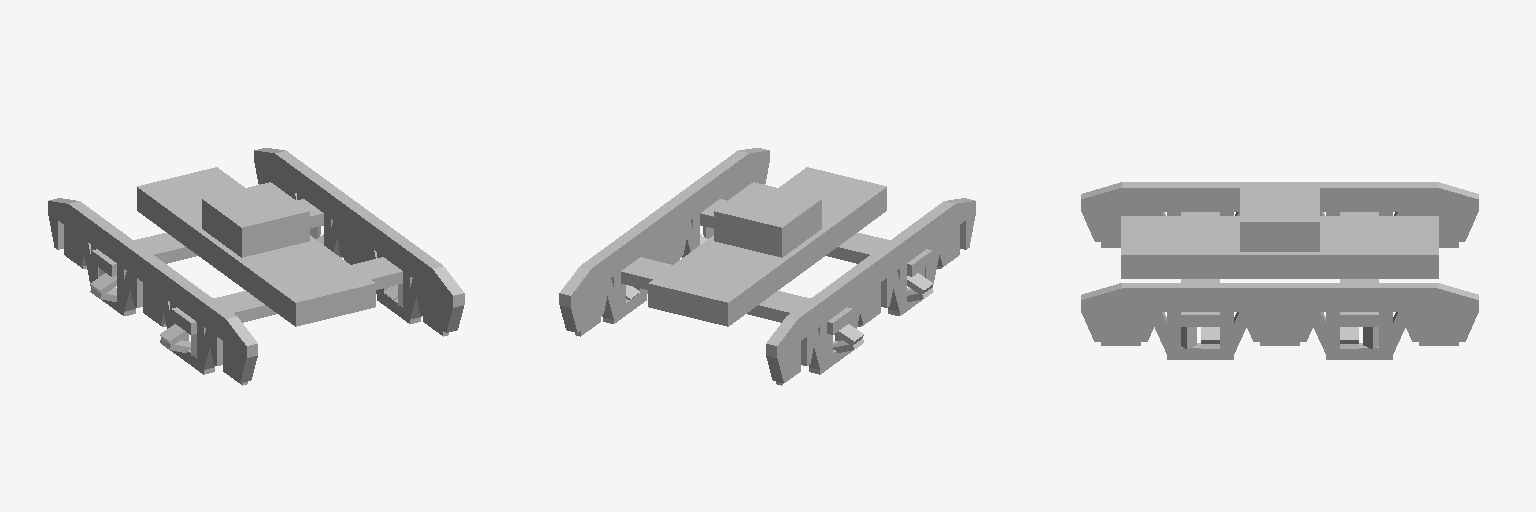
Rendered from heavyweight_frame.obj.
3 renders of one model, left to right at view 1: azimuth 30°, elevation 25°; view 2: azimuth 150°, elevation 25°; view 3: azimuth 270°, elevation 25°, orthographic.
Visible parts, largest first — view 1: cube2, cube8, cube54, cube1, cube30, cube29, cube16, cube13; view 2: cube2, cube8, cube54, cube1, cube29, cube30, cube3, cube13; view 3: cube2, cube8, cube54, cube1, cube3, cube13, cube16, cube29, cube30, cube31, cube50, cube7 (+5 smaller).
Boxes of the visible parts, x1=… form: cube2: x1=137, y1=167, x2=375, y2=326; cube8: x1=254, y1=148, x2=464, y2=307; cube54: x1=48, y1=198, x2=257, y2=357; cube1: x1=202, y1=182, x2=309, y2=257; cube30: x1=171, y1=257, x2=402, y2=334; cube29: x1=92, y1=199, x2=323, y2=276; cube16: x1=423, y1=286, x2=448, y2=336; cube13: x1=344, y1=228, x2=363, y2=264; cube2: x1=648, y1=167, x2=886, y2=326; cube8: x1=559, y1=148, x2=769, y2=307; cube54: x1=766, y1=198, x2=975, y2=357; cube1: x1=714, y1=182, x2=821, y2=257; cube29: x1=621, y1=257, x2=852, y2=334; cube30: x1=700, y1=199, x2=931, y2=276; cube3: x1=575, y1=286, x2=600, y2=336; cube13: x1=660, y1=228, x2=679, y2=264; cube2: x1=1121, y1=216, x2=1438, y2=278; cube8: x1=1081, y1=283, x2=1478, y2=311; cube54: x1=1081, y1=182, x2=1478, y2=211; cube1: x1=1240, y1=188, x2=1319, y2=251; cube3: x1=1419, y1=312, x2=1458, y2=345; cube13: x1=1260, y1=312, x2=1299, y2=345; cube16: x1=1101, y1=312, x2=1140, y2=345; cube29: x1=1340, y1=212, x2=1378, y2=326; cube30: x1=1181, y1=212, x2=1219, y2=326; cube31: x1=1419, y1=212, x2=1458, y2=247; cube50: x1=1101, y1=212, x2=1140, y2=247; cube7: x1=1380, y1=304, x2=1413, y2=357.
Bounding box in the file's own units: 2.75 × 1.06 × 3.75.